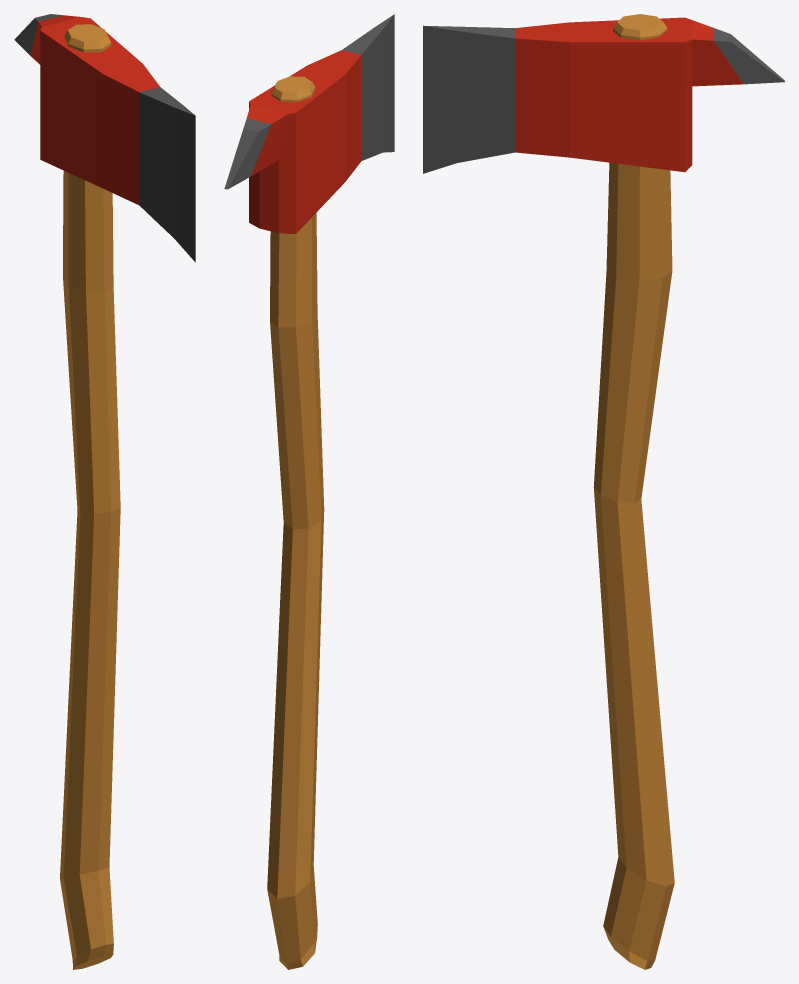
Rendered from FireAxe.fbx.
3 renders of one model, left to right at view 1: azimuth 30°, elevation 25°; view 2: azimuth 150°, elevation 25°; view 3: azimuth 270°, elevation 25°, orthographic. The views are drawn at different scales.
Visible parts, largest first — view 1: Цилиндр; view 2: Цилиндр; view 3: Цилиндр.
Boxes of the visible parts, left/top/right/bottom form: Цилиндр: left=14, top=14, right=195, bottom=969; Цилиндр: left=224, top=14, right=394, bottom=969; Цилиндр: left=423, top=14, right=784, bottom=969.
Size of the model in its own units: 11.21 by 200 by 69.43.
